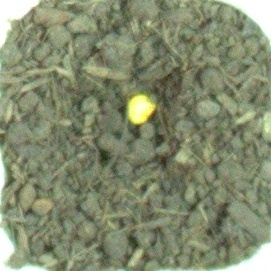pepper seed: (46, 30, 205, 157)
